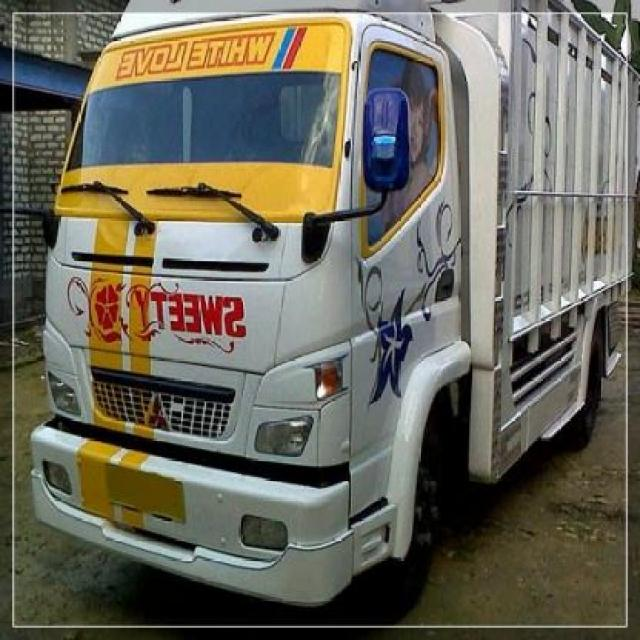truck: (27, 1, 640, 615)
